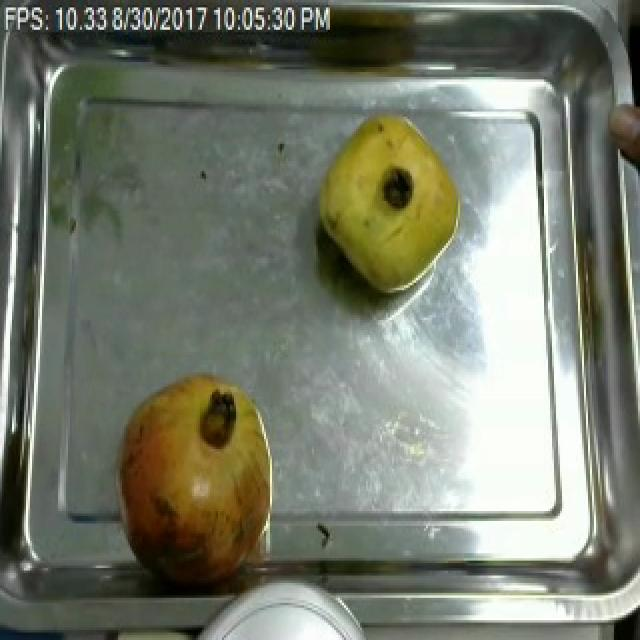fruit: (100, 358, 284, 596), (310, 104, 468, 303), (604, 87, 640, 186)
